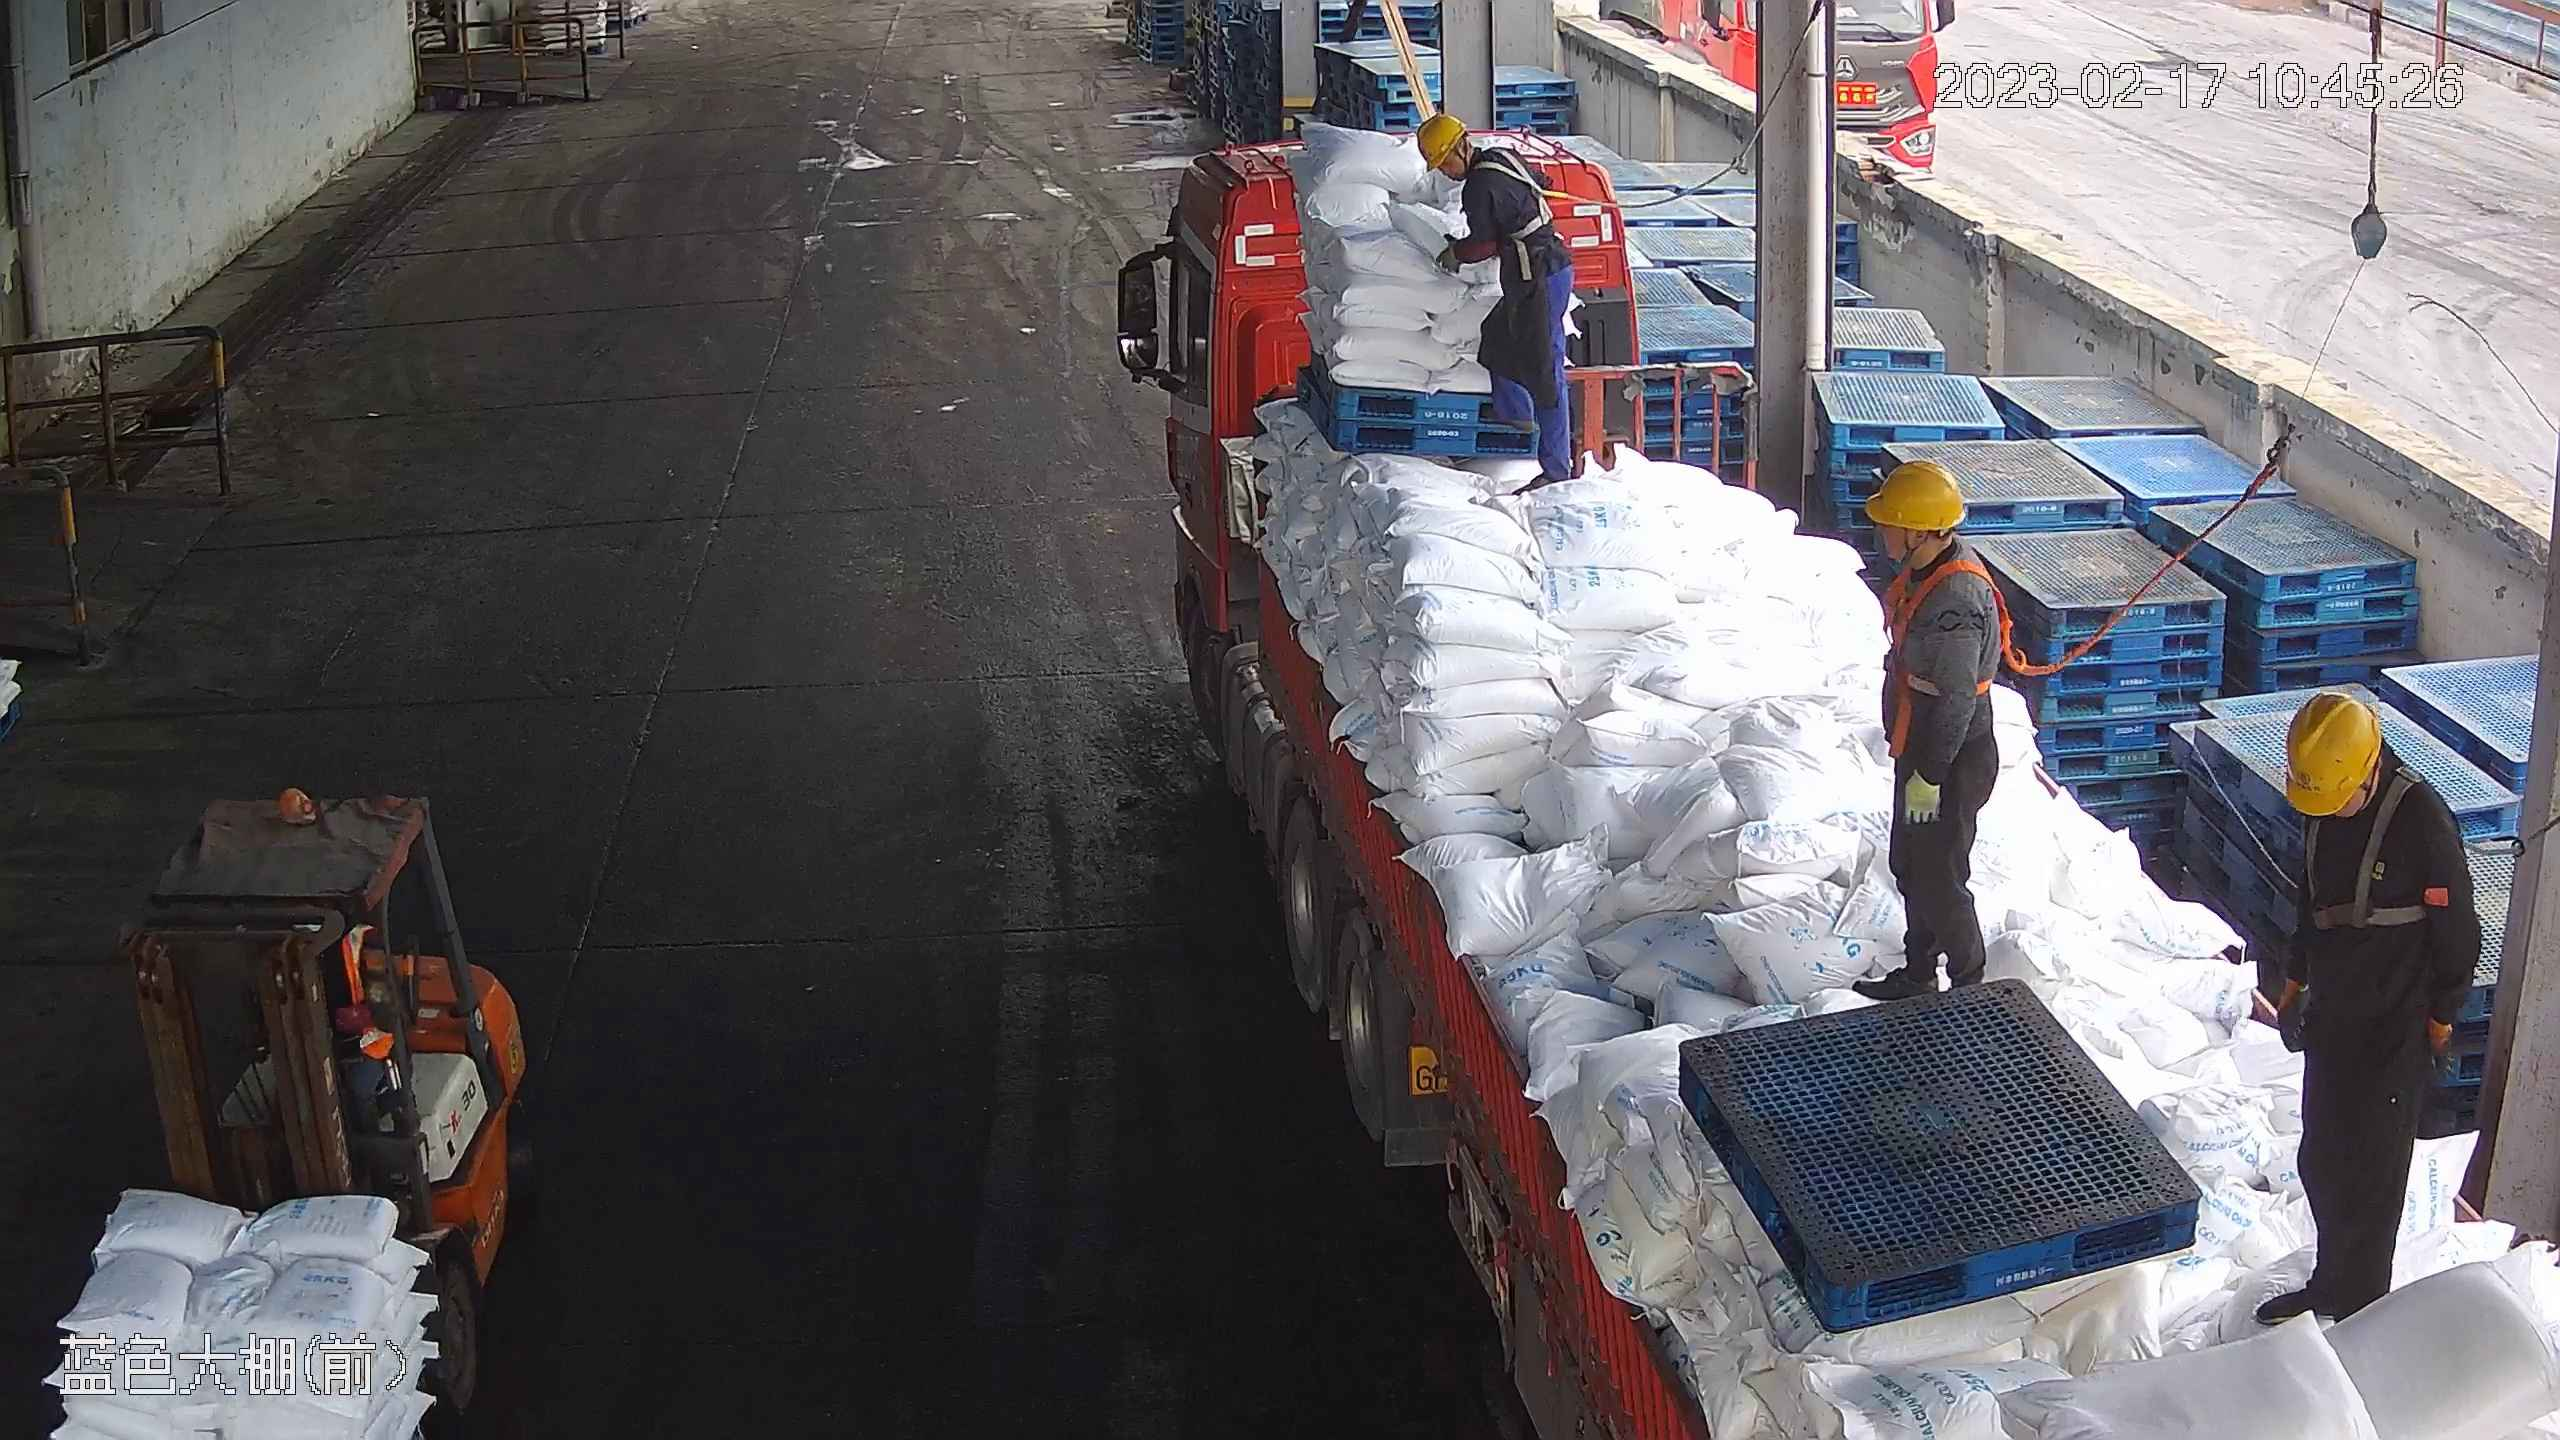belt: (2274, 766, 2461, 930), (1874, 560, 2052, 705), (1475, 145, 1580, 241)
head: (2272, 686, 2472, 920), (1857, 460, 2009, 636), (1417, 116, 1544, 243)
helmet: (2274, 686, 2382, 817), (1862, 466, 1974, 538), (1417, 115, 1474, 174)
people: (2248, 689, 2487, 1337), (1852, 462, 2006, 1013), (1415, 117, 1581, 498)
truck: (1112, 132, 2560, 1440)
